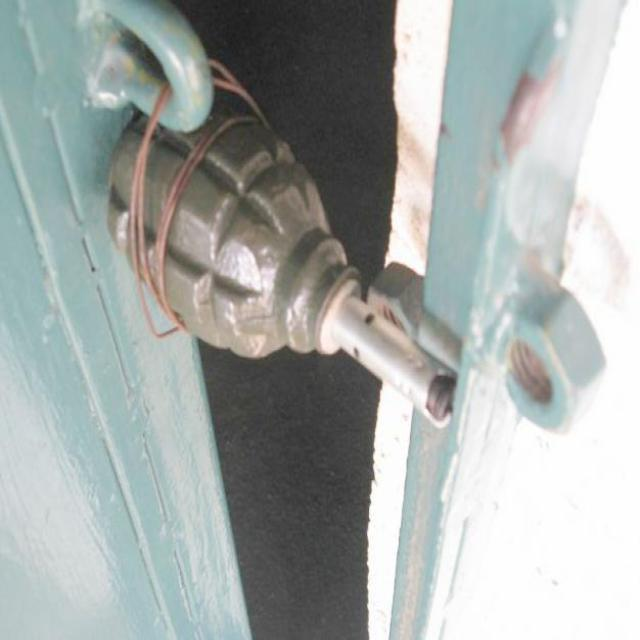grenade: (108, 99, 454, 430)
